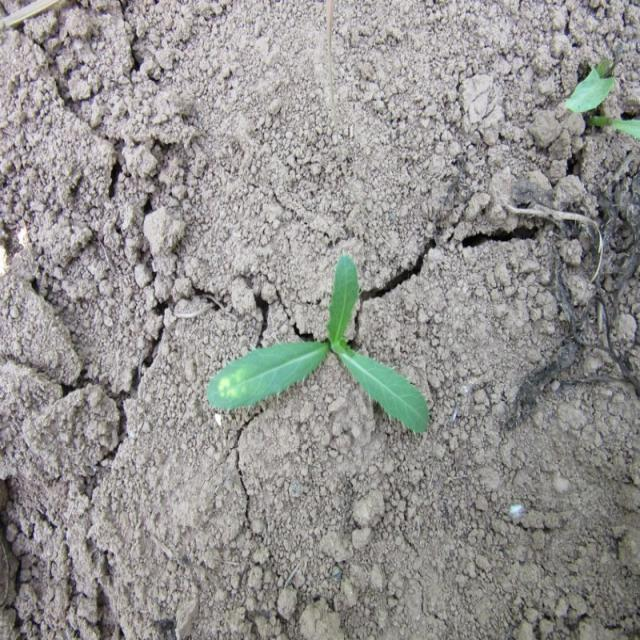field_thistle: (179, 253, 432, 428)
